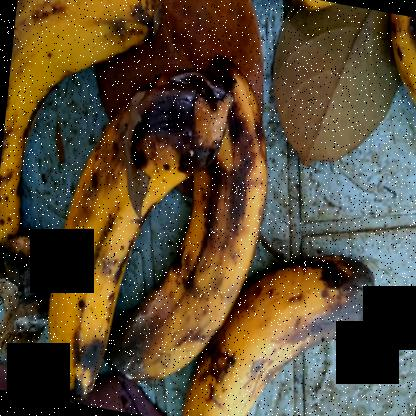overripe: (0, 0, 162, 281)
rotten: (111, 30, 282, 390), (39, 67, 222, 377), (192, 247, 384, 415)
